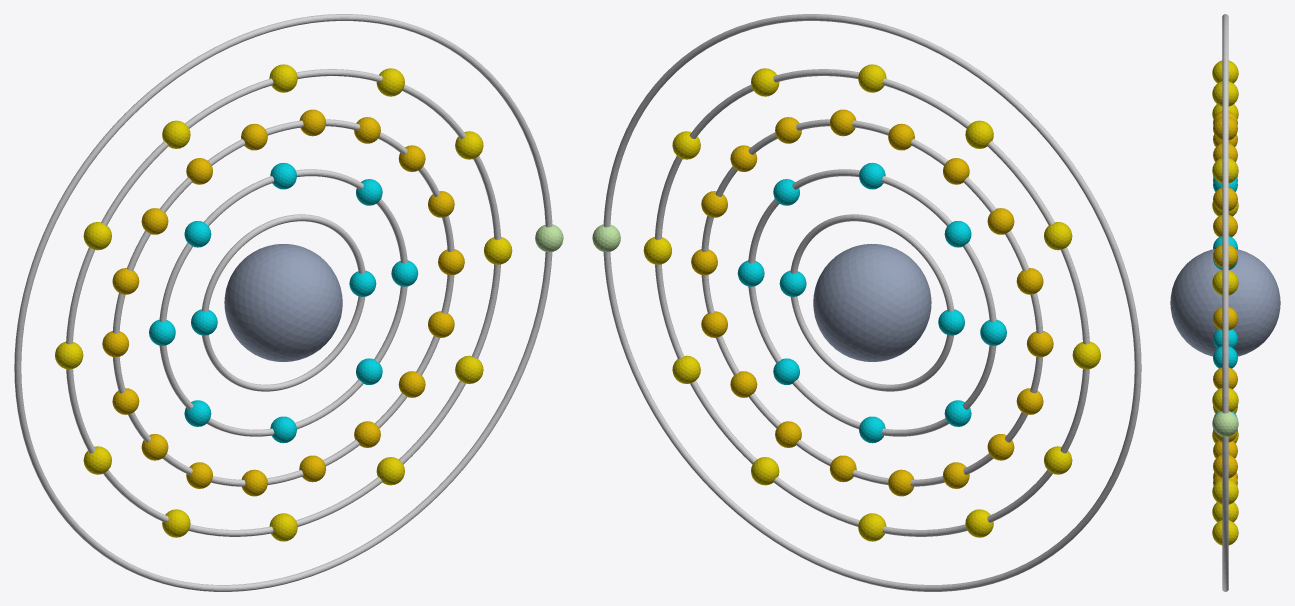
3 renders of one model, left to right at view 1: azimuth 30°, elevation 25°; view 2: azimuth 150°, elevation 25°; view 3: azimuth 270°, elevation 25°, orthographic. The views are drawn at different scales.
Parts seen in each view (by area): view 1: Camada_5, Nucleo_Nb, Camada_4, Camada_3, Camada_2, Camada_1; view 2: Camada_5, Nucleo_Nb, Camada_4, Camada_3, Camada_2, Camada_1; view 3: Nucleo_Nb, Camada_5, e5_1, e4_4, e4_12, e4_2, e4_3, e4_11, e4_1, e4_5, e3_4, e3_17 (+12 smaller).
Part boxes in pixels (x1=…): Camada_5: x1=14, y1=14, x2=552, y2=591; Nucleo_Nb: x1=224, y1=244, x2=342, y2=361; Camada_4: x1=66, y1=69, x2=500, y2=536; Camada_3: x1=112, y1=119, x2=454, y2=486; Camada_2: x1=159, y1=169, x2=407, y2=436; Camada_1: x1=201, y1=214, x2=365, y2=391; Camada_5: x1=603, y1=14, x2=1141, y2=591; Nucleo_Nb: x1=813, y1=244, x2=931, y2=361; Camada_4: x1=655, y1=69, x2=1089, y2=536; Camada_3: x1=701, y1=119, x2=1043, y2=486; Camada_2: x1=748, y1=169, x2=996, y2=436; Camada_1: x1=790, y1=214, x2=954, y2=391; Nucleo_Nb: x1=1170, y1=249, x2=1280, y2=356; Camada_5: x1=1222, y1=14, x2=1228, y2=591; e5_1: x1=1212, y1=411, x2=1238, y2=436; e4_4: x1=1212, y1=81, x2=1238, y2=106; e4_12: x1=1212, y1=479, x2=1238, y2=504; e4_2: x1=1212, y1=270, x2=1238, y2=295; e4_3: x1=1212, y1=158, x2=1238, y2=183; e4_11: x1=1212, y1=520, x2=1238, y2=545; e4_1: x1=1212, y1=388, x2=1238, y2=411; e4_5: x1=1212, y1=60, x2=1238, y2=83; e3_4: x1=1213, y1=187, x2=1237, y2=211; e3_17: x1=1213, y1=454, x2=1237, y2=478.
Bounding box in the file's own units: 2.35 × 2.31 × 0.44.
